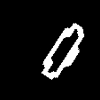chain: (42, 23, 83, 78)
